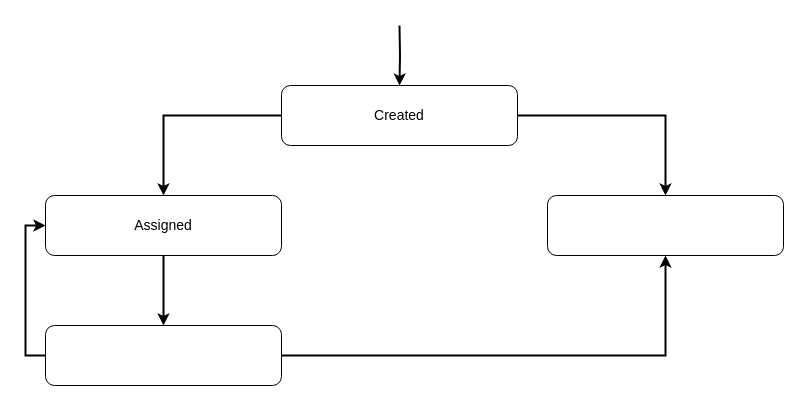
Image size: 801x403. Some labels were removed from this diagram. Here are the shapes that lost their labels. From the top down, the centre of each, then its label:
(x=665, y=225): Discarded
(x=163, y=355): Unassigned
